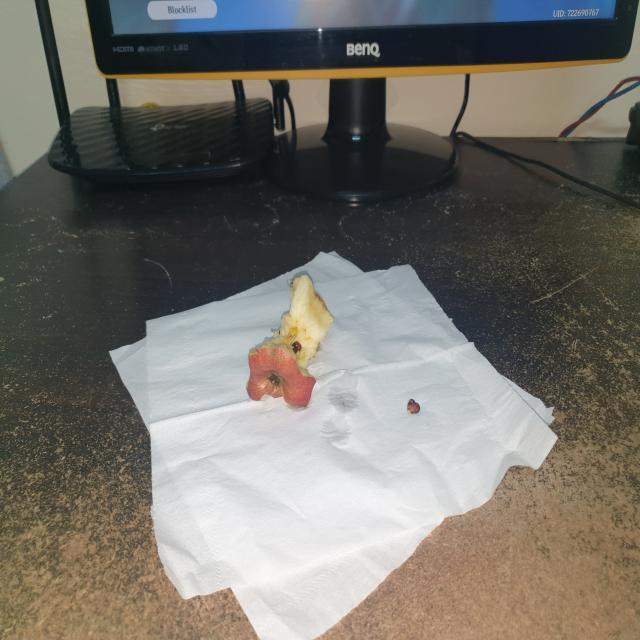apple: (247, 270, 334, 412)
